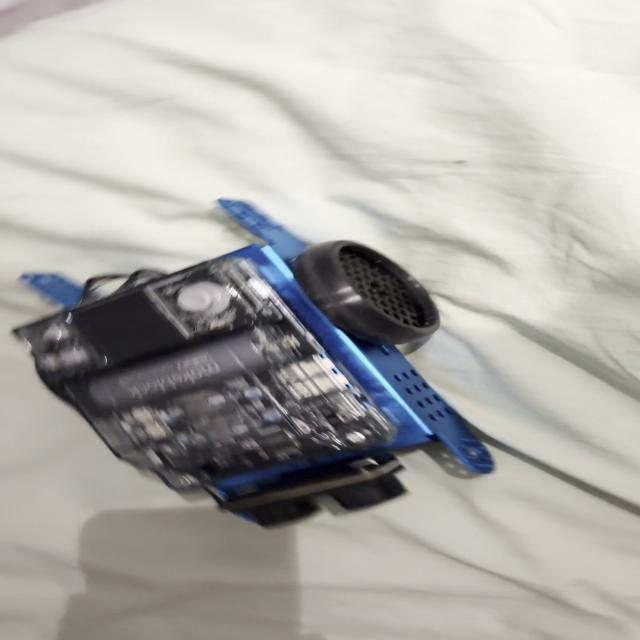mbot-detection: (7, 188, 523, 541)
